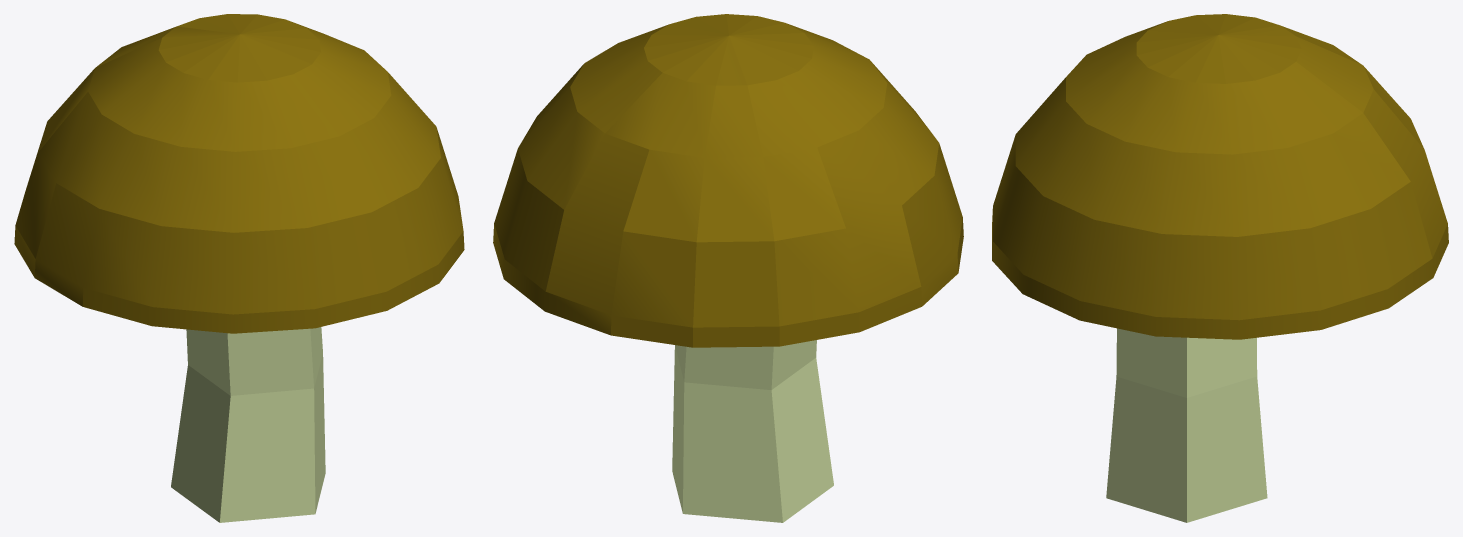
The model's file is Mushroom_c_02.fbx.
3 views of the same model, side by side, from view 1: azimuth 30°, elevation 25°; view 2: azimuth 150°, elevation 25°; view 3: azimuth 270°, elevation 25° (orthographic). The views are drawn at different scales.
Visible parts, largest first — view 1: Mushroom_c_02_LOD0; view 2: Mushroom_c_02_LOD0; view 3: Mushroom_c_02_LOD0.
Part boxes in pixels (x1,y1,x2,y2): Mushroom_c_02_LOD0: (14,14,464,522); Mushroom_c_02_LOD0: (493,14,963,522); Mushroom_c_02_LOD0: (992,14,1448,522).
Size of what is drawn, in the model's own units: 7.88 by 8.59 by 7.85.
